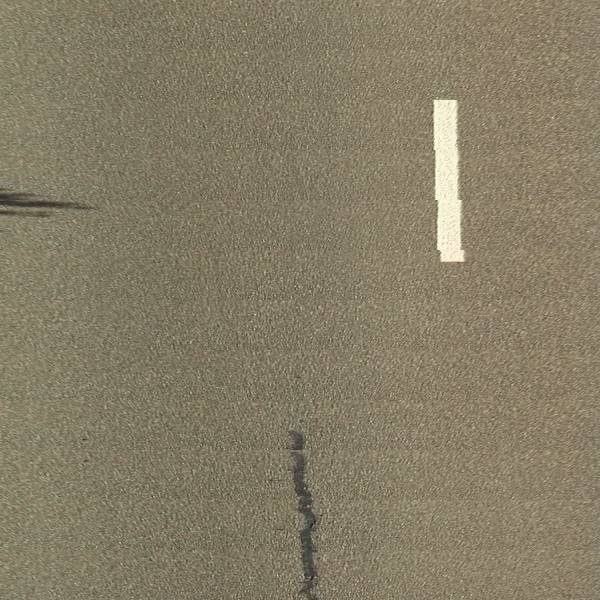road_damage: (282, 426, 328, 600)
